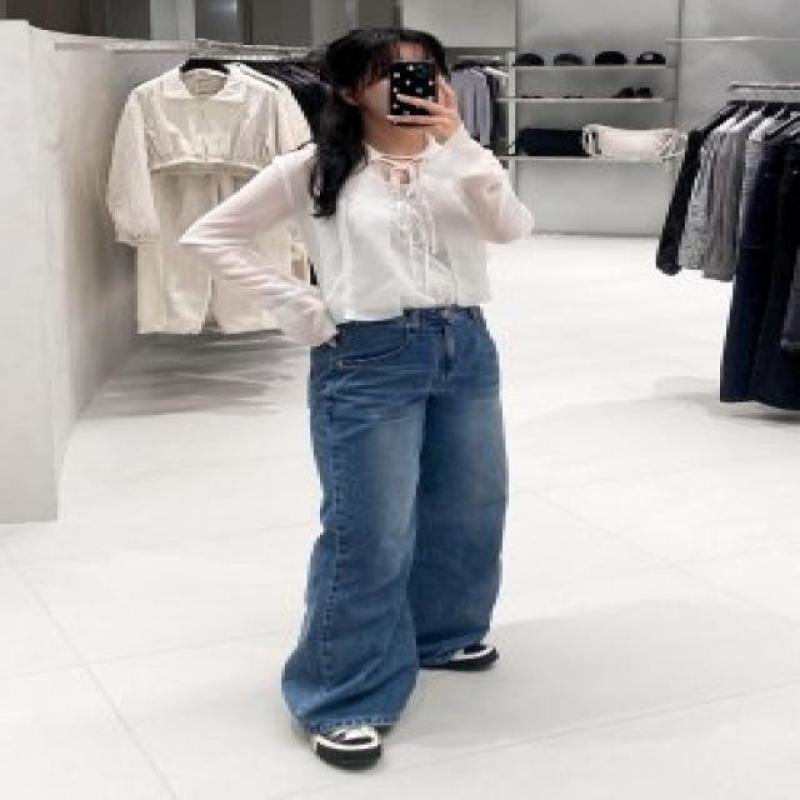long sleeve shirt: (175, 122, 536, 347)
trousers: (275, 305, 509, 734)
